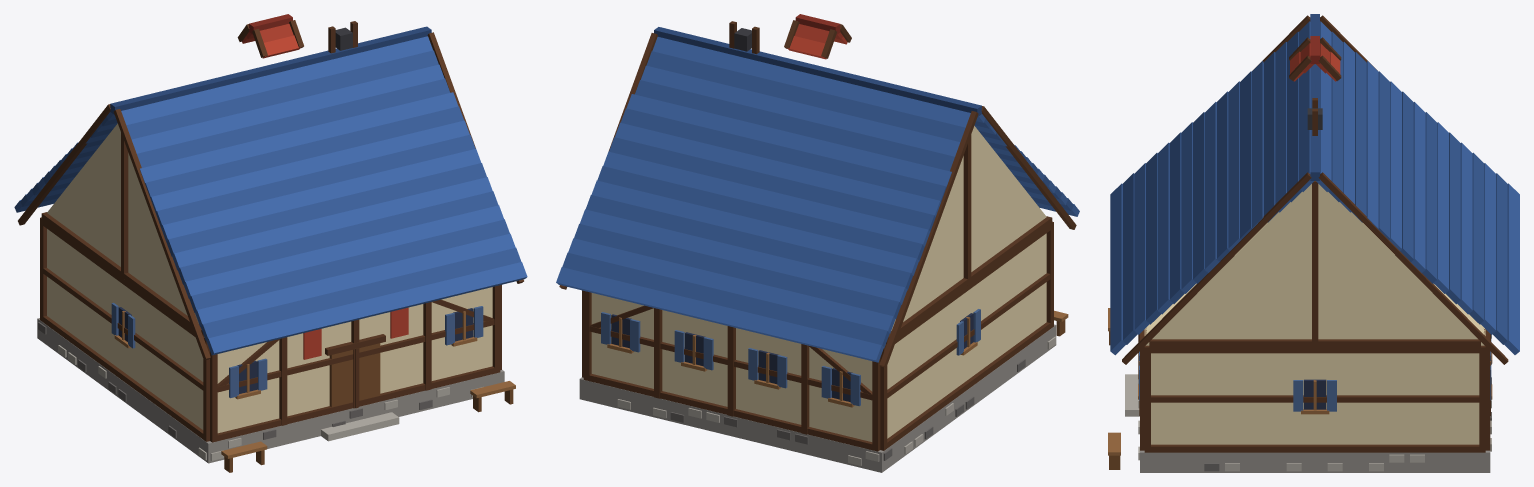
Rendered from meeting_hall_lv2.glb.
The picture shows the model from 3 angles, left to right: view 1: azimuth 30°, elevation 25°; view 2: azimuth 150°, elevation 25°; view 3: azimuth 270°, elevation 25°; orthographic projection. The views are drawn at different scales.
Parts seen in each view (by area): view 1: roof_blue, roof_blue_mid, plaster, timber, footing, ridge, plank_dark, stone_light, shutter_blue, roof_red, plank, window (+1 smaller); view 2: roof_blue, roof_blue_mid, plaster, timber, footing, ridge, shutter_blue, window, plank, stone_light, stone_dark, roof_red; view 3: plaster, roof_blue, roof_blue_mid, timber, footing, stone_light, ridge, shutter_blue, plank, window.
Part boxes in pixels (bbox=[...]): roof_blue: bbox=[14, 36, 527, 355]; roof_blue_mid: bbox=[20, 50, 521, 340]; plaster: bbox=[47, 123, 492, 433]; timber: bbox=[18, 20, 523, 442]; footing: bbox=[37, 318, 504, 463]; ridge: bbox=[110, 26, 431, 114]; plank_dark: bbox=[224, 343, 513, 472]; stone_light: bbox=[58, 345, 482, 460]; shutter_blue: bbox=[111, 302, 483, 398]; roof_red: bbox=[242, 35, 408, 359]; plank: bbox=[114, 311, 515, 458]; window: bbox=[118, 307, 473, 393]; roof_blue: bbox=[556, 37, 1079, 362]; roof_blue_mid: bbox=[562, 51, 1073, 347]; plaster: bbox=[591, 126, 1046, 441]; timber: bbox=[559, 20, 1076, 451]; footing: bbox=[579, 324, 1056, 472]; ridge: bbox=[654, 27, 981, 116]; shutter_blue: bbox=[601, 309, 980, 406]; window: bbox=[611, 313, 973, 401]; plank: bbox=[607, 310, 1068, 407]; stone_light: bbox=[617, 336, 1056, 465]; stone_dark: bbox=[670, 359, 1025, 460]; roof_red: bbox=[787, 36, 847, 59]; plaster: bbox=[1144, 184, 1485, 444]; roof_blue: bbox=[1110, 21, 1519, 355]; roof_blue_mid: bbox=[1122, 31, 1507, 344]; timber: bbox=[1122, 15, 1508, 452]; footing: bbox=[1140, 450, 1490, 472]; stone_light: bbox=[1125, 335, 1491, 471]; ridge: bbox=[1310, 14, 1319, 180]; shutter_blue: bbox=[1139, 335, 1491, 411]; plank: bbox=[1108, 308, 1492, 455]; window: bbox=[1304, 379, 1326, 409].
Size of the model in its own units: 4.03 by 4.17 by 4.41.
